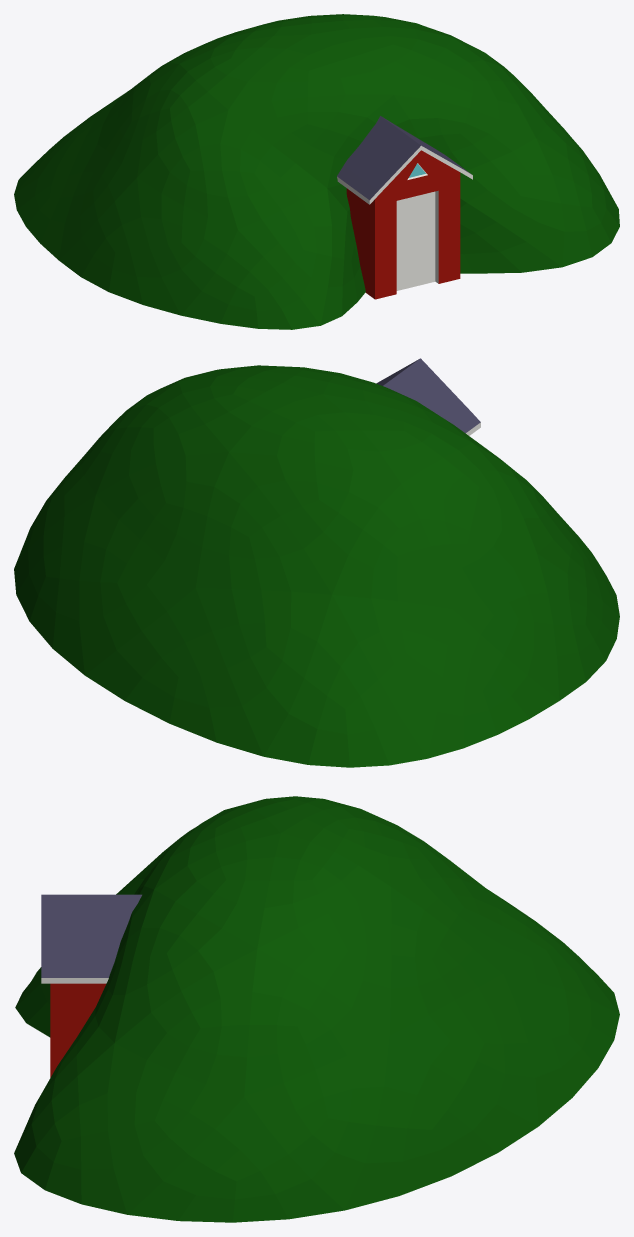
File: Farmi_Perunakellari.fbx
3 renders of one model, top to bottom at view 1: azimuth 30°, elevation 25°; view 2: azimuth 150°, elevation 25°; view 3: azimuth 270°, elevation 25°, orthographic. The views are drawn at different scales.
Visible parts, largest first — view 1: Möykky; view 2: Möykky; view 3: Möykky.
Boxes of the visible parts, box(x1,y1,x2,y2) form: Möykky: box(14, 14, 619, 329); Möykky: box(14, 358, 619, 767); Möykky: box(14, 796, 619, 1222).
Bounding box in the file's own units: 951 × 354 × 830.
